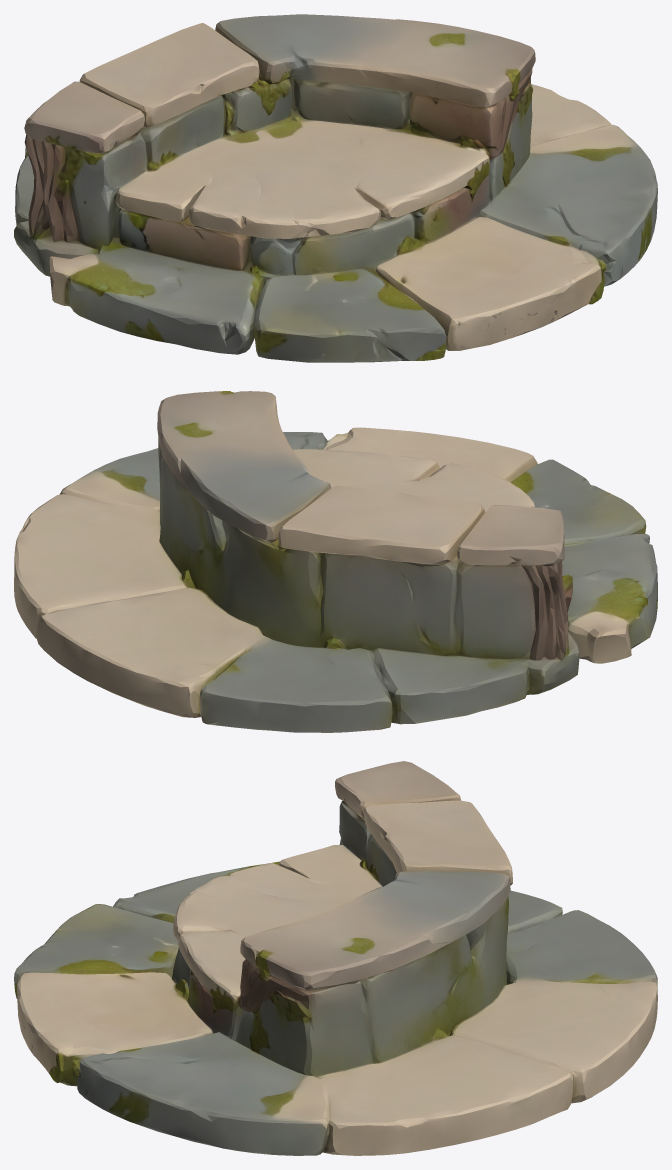
3 renders of one model, top to bottom at view 1: azimuth 30°, elevation 25°; view 2: azimuth 150°, elevation 25°; view 3: azimuth 270°, elevation 25°, orthographic. The views are drawn at different scales.
Parts seen in each view (by area): view 1: Mesh; view 2: Mesh; view 3: Mesh.
Boxes of the visible parts, left/top/right/bottom form: Mesh: left=14, top=14, right=657, bottom=362; Mesh: left=14, top=391, right=657, bottom=732; Mesh: left=14, top=761, right=657, bottom=1155.
Bounding box in the file's own units: 1.88 × 0.4668 × 1.9.
1 material, 1 textured.
